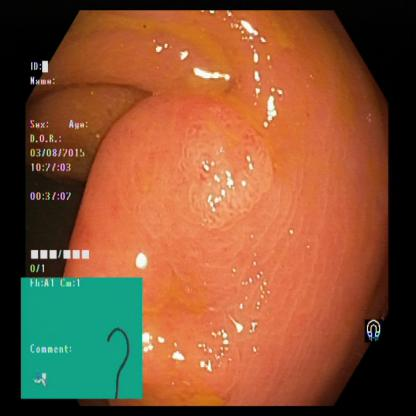Labels: (32, 54, 96, 272), (21, 279, 138, 398), (362, 316, 390, 349)
Polyps: (176, 98, 277, 225)
